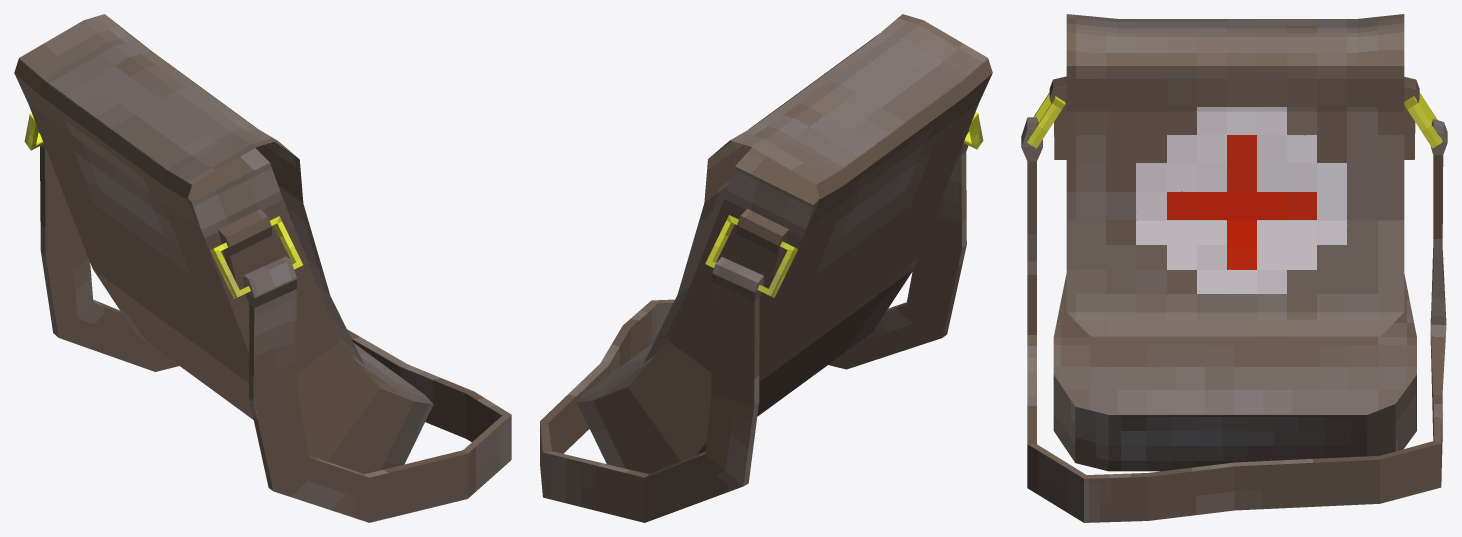
Rendered from poemdexter_satchel.fbx.
3 views of the same model, side by side, from view 1: azimuth 30°, elevation 25°; view 2: azimuth 150°, elevation 25°; view 3: azimuth 270°, elevation 25° (orthographic). The views are drawn at different scales.
Parts seen in each view (by area): view 1: Satchel; view 2: Satchel; view 3: Satchel.
Boxes of the visible parts, bbox=[...] form: Satchel: bbox=[14, 14, 511, 522]; Satchel: bbox=[540, 14, 992, 522]; Satchel: bbox=[1021, 14, 1447, 522].
Bounding box in the file's own units: 0.9065 × 1.01 × 1.03.
